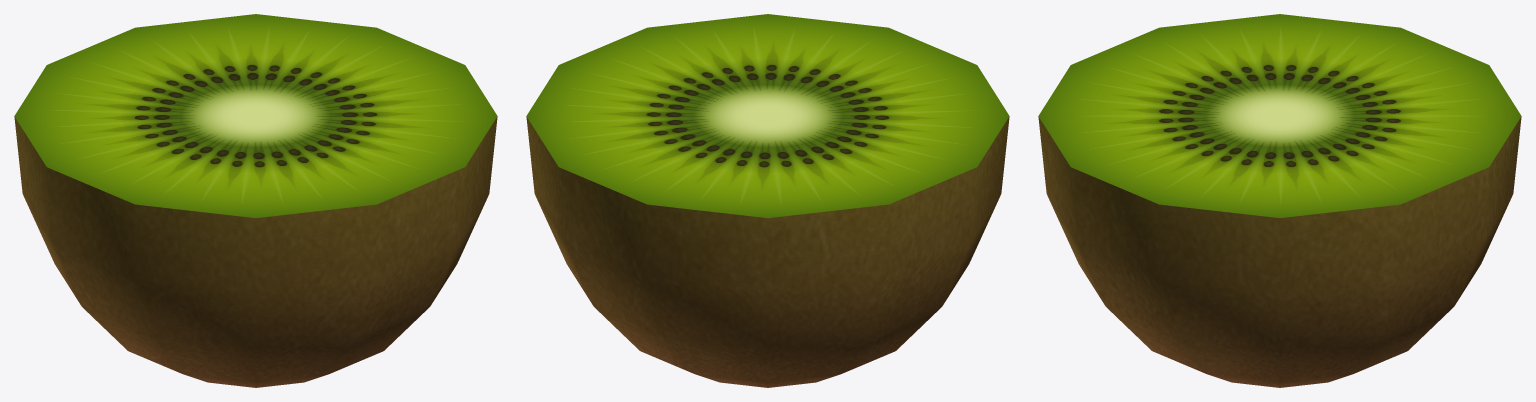
File: Kiwi_Half_Bottom.fbx
3 renders of one model, left to right at view 1: azimuth 30°, elevation 25°; view 2: azimuth 150°, elevation 25°; view 3: azimuth 270°, elevation 25°, orthographic.
Parts seen in each view (by area): view 1: Kiwi_Half_Bottom; view 2: Kiwi_Half_Bottom; view 3: Kiwi_Half_Bottom.
Part boxes in pixels (x1,y1,x2,y2): Kiwi_Half_Bottom: [14, 14, 497, 387]; Kiwi_Half_Bottom: [526, 14, 1009, 387]; Kiwi_Half_Bottom: [1038, 14, 1521, 387].
Bounding box in the file's own units: 1.5 × 0.8625 × 1.5.
